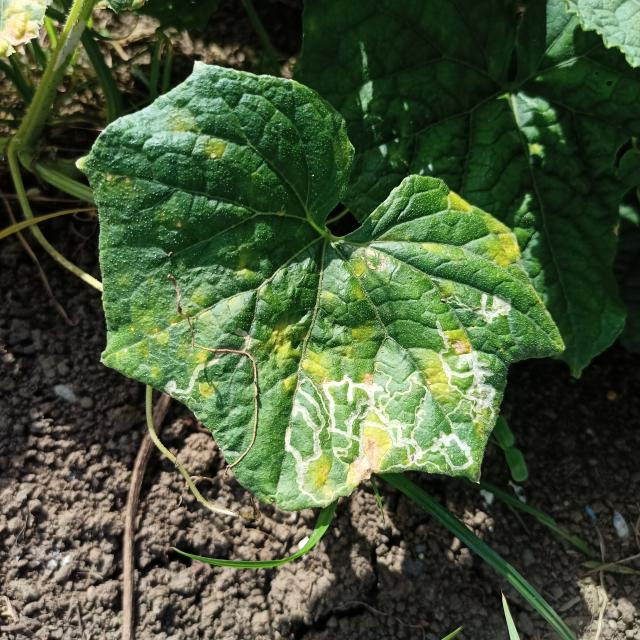disease_cucumber: (266, 257, 502, 503), (136, 277, 267, 401), (421, 188, 526, 272), (170, 113, 228, 161)
